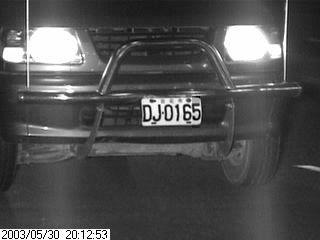plate: (140, 94, 204, 128)
